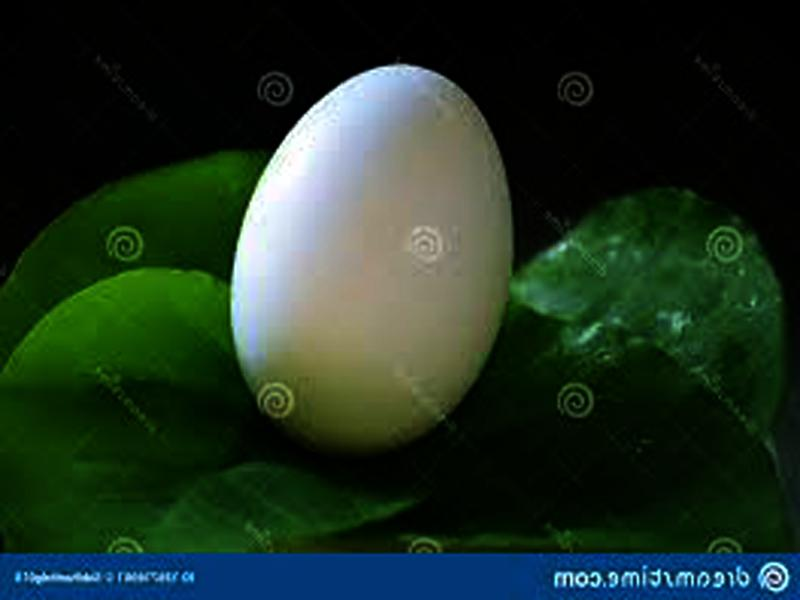Eggs: (229, 63, 514, 455)
